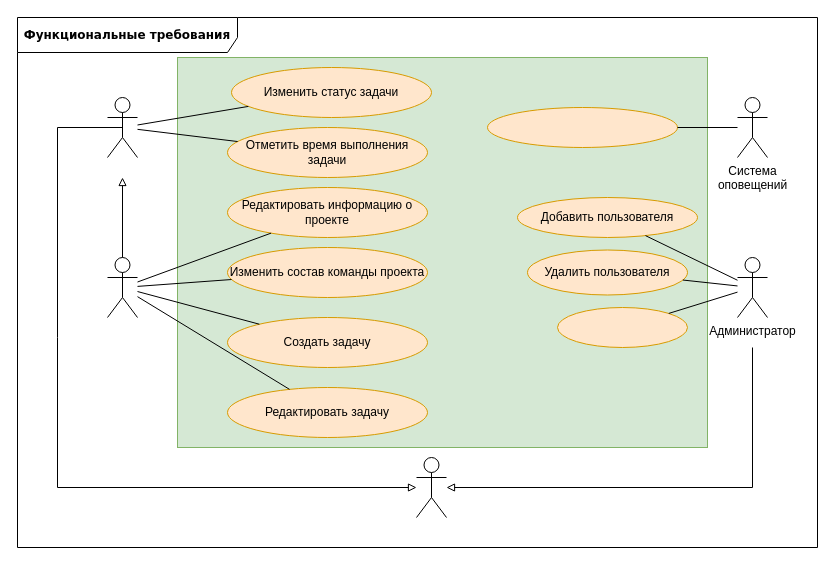
This 835x565 diagram has some shape labels left out. The shapes that lost their labels are listed below. From the top down, each one's box as (x1, y1, x2, y2) in pixels, then its label:
(106, 96, 138, 158): Член команды
(486, 106, 678, 148): Отправить уведомление
(106, 256, 138, 318): Менеджер проекта
(556, 306, 688, 348): Создать проект
(416, 456, 446, 518): Пользователь
